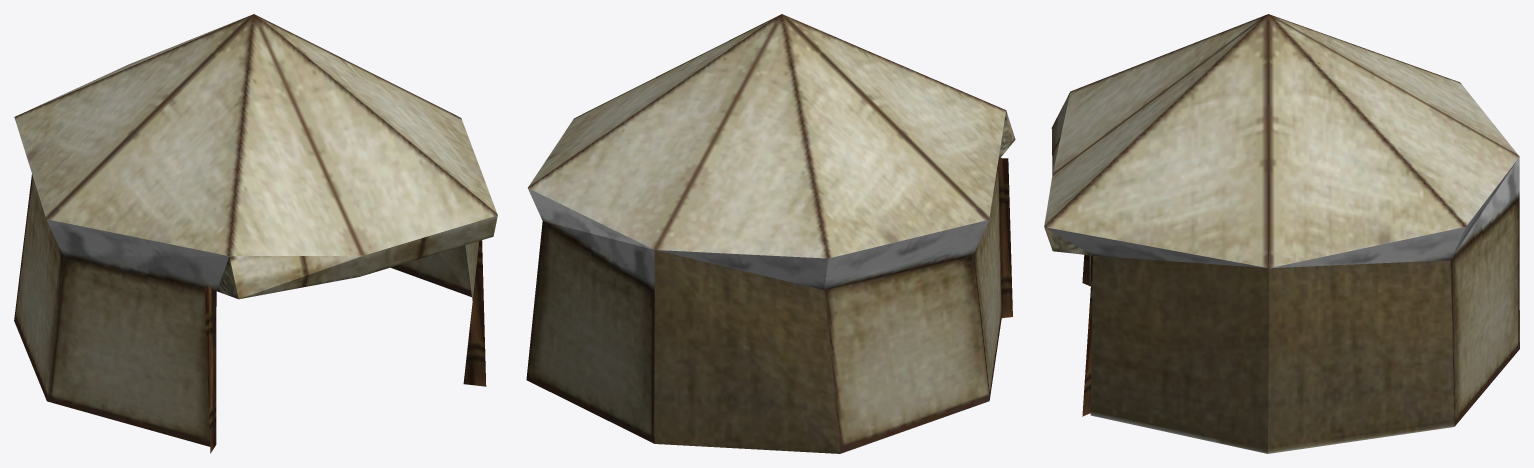
Rendered from nsm-general_obj_03_lod_01.fbx.
The picture shows the model from 3 angles, left to right: view 1: azimuth 30°, elevation 25°; view 2: azimuth 150°, elevation 25°; view 3: azimuth 270°, elevation 25°; orthographic projection.
Parts seen in each view (by area): view 1: Mesh02; view 2: Mesh02; view 3: Mesh02.
Boxes of the visible parts, <box> form: Mesh02: <box>14,14,497,453</box>; Mesh02: <box>526,14,1015,453</box>; Mesh02: <box>1044,14,1519,453</box>.
Bounding box in the file's own units: 6.72 × 5.1 × 6.55.
